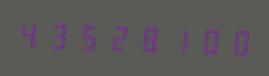eight: (133, 19, 161, 56)
five: (75, 17, 103, 54)
four: (17, 15, 45, 52)
one: (162, 20, 190, 57)
three: (46, 16, 74, 53)
two: (104, 18, 132, 55)
zero: (191, 22, 219, 58), (220, 23, 248, 59)
